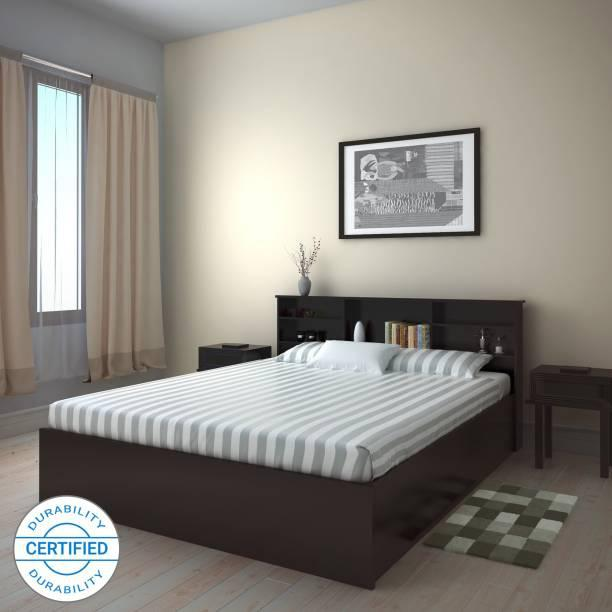bed: (35, 276, 550, 593)
